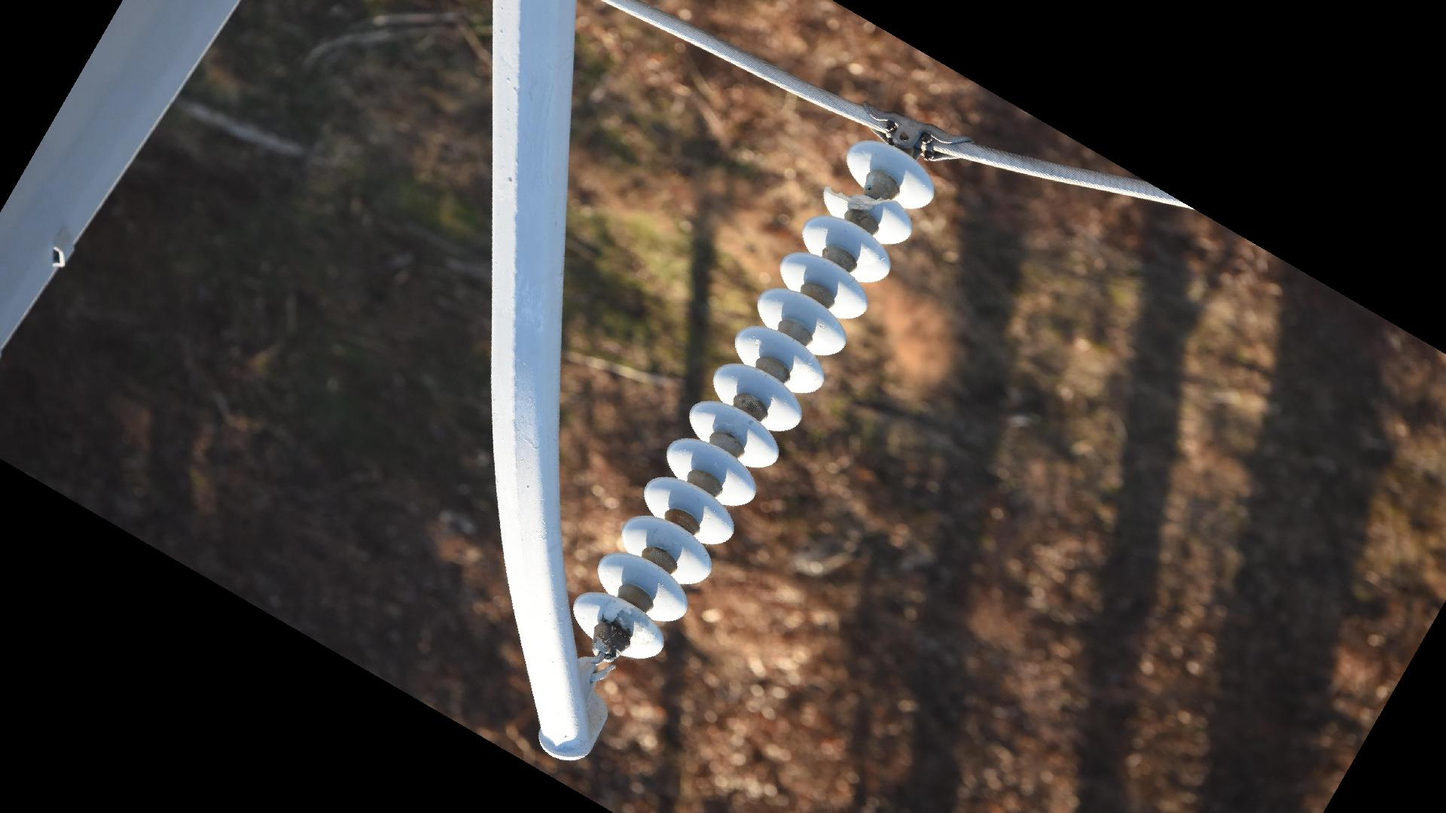insulator: (568, 132, 943, 668)
insulator_breakage: (820, 183, 902, 211)
insulator_flashover: (615, 606, 650, 637)
